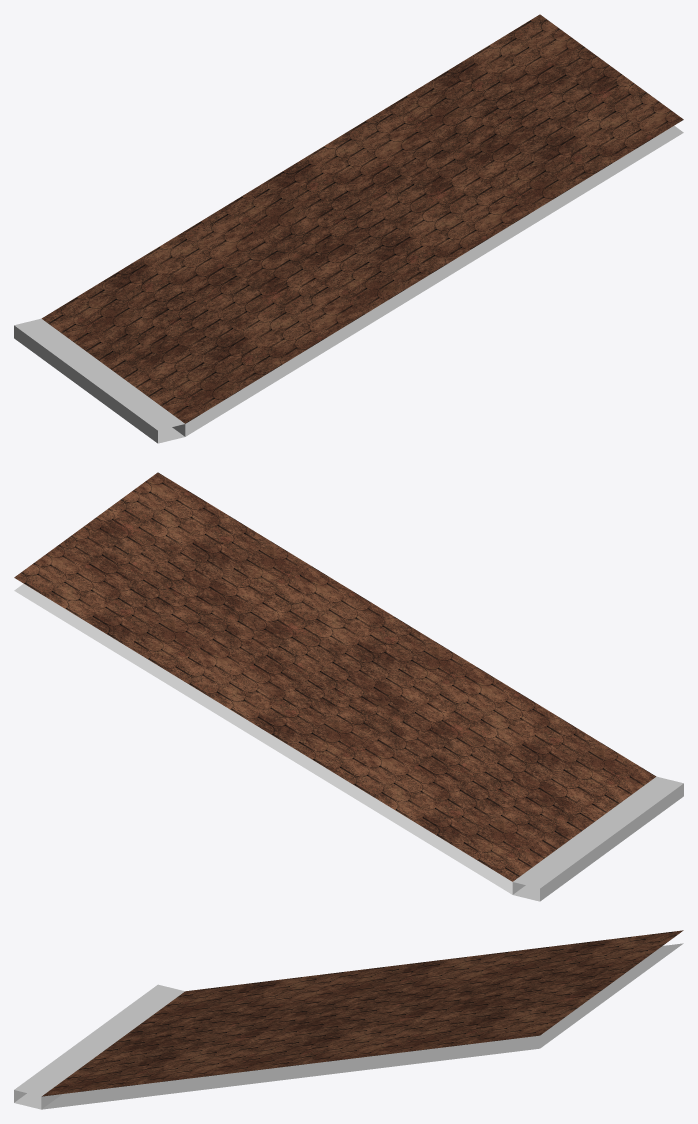
File: SHED_ROOF_SEGMENT_B.fbx
The picture shows the model from 3 angles, top to bottom: view 1: azimuth 30°, elevation 25°; view 2: azimuth 150°, elevation 25°; view 3: azimuth 330°, elevation 25°; orthographic projection.
Parts seen in each view (by area): view 1: SHED_ROOF_SEGMENT_B; view 2: SHED_ROOF_SEGMENT_B; view 3: SHED_ROOF_SEGMENT_B.
Boxes of the visible parts, x1,y1,x2,y2 form: SHED_ROOF_SEGMENT_B: (14,14,683,443); SHED_ROOF_SEGMENT_B: (14,472,683,901); SHED_ROOF_SEGMENT_B: (14,930,683,1109).
Bounding box in the file's own units: 3.8 × 1.35 × 1.8.
